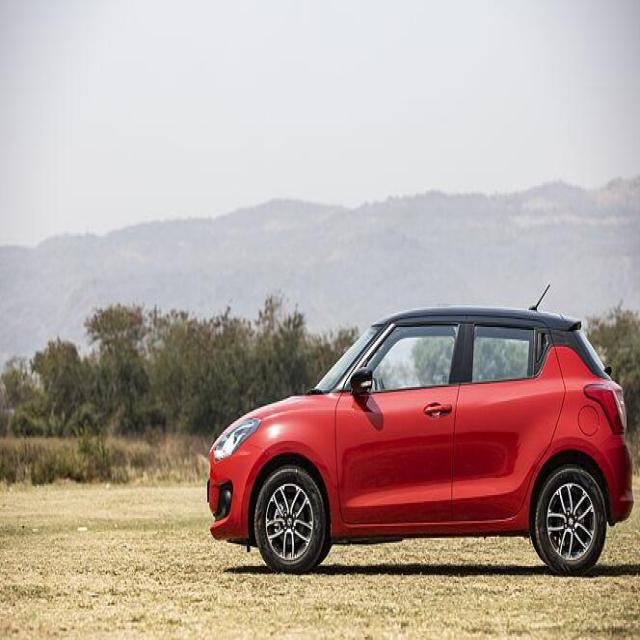cars6: (203, 282, 636, 577)
